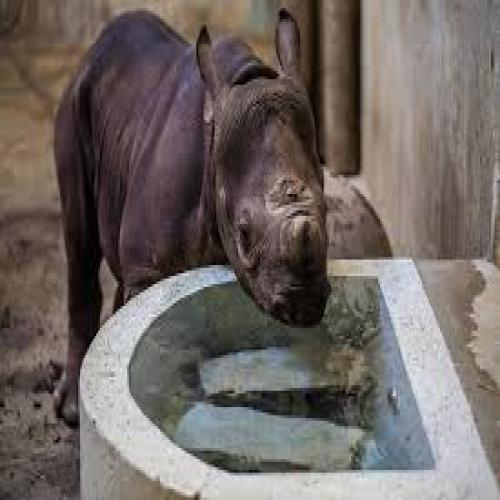rhino-endangered: (53, 11, 326, 418)
